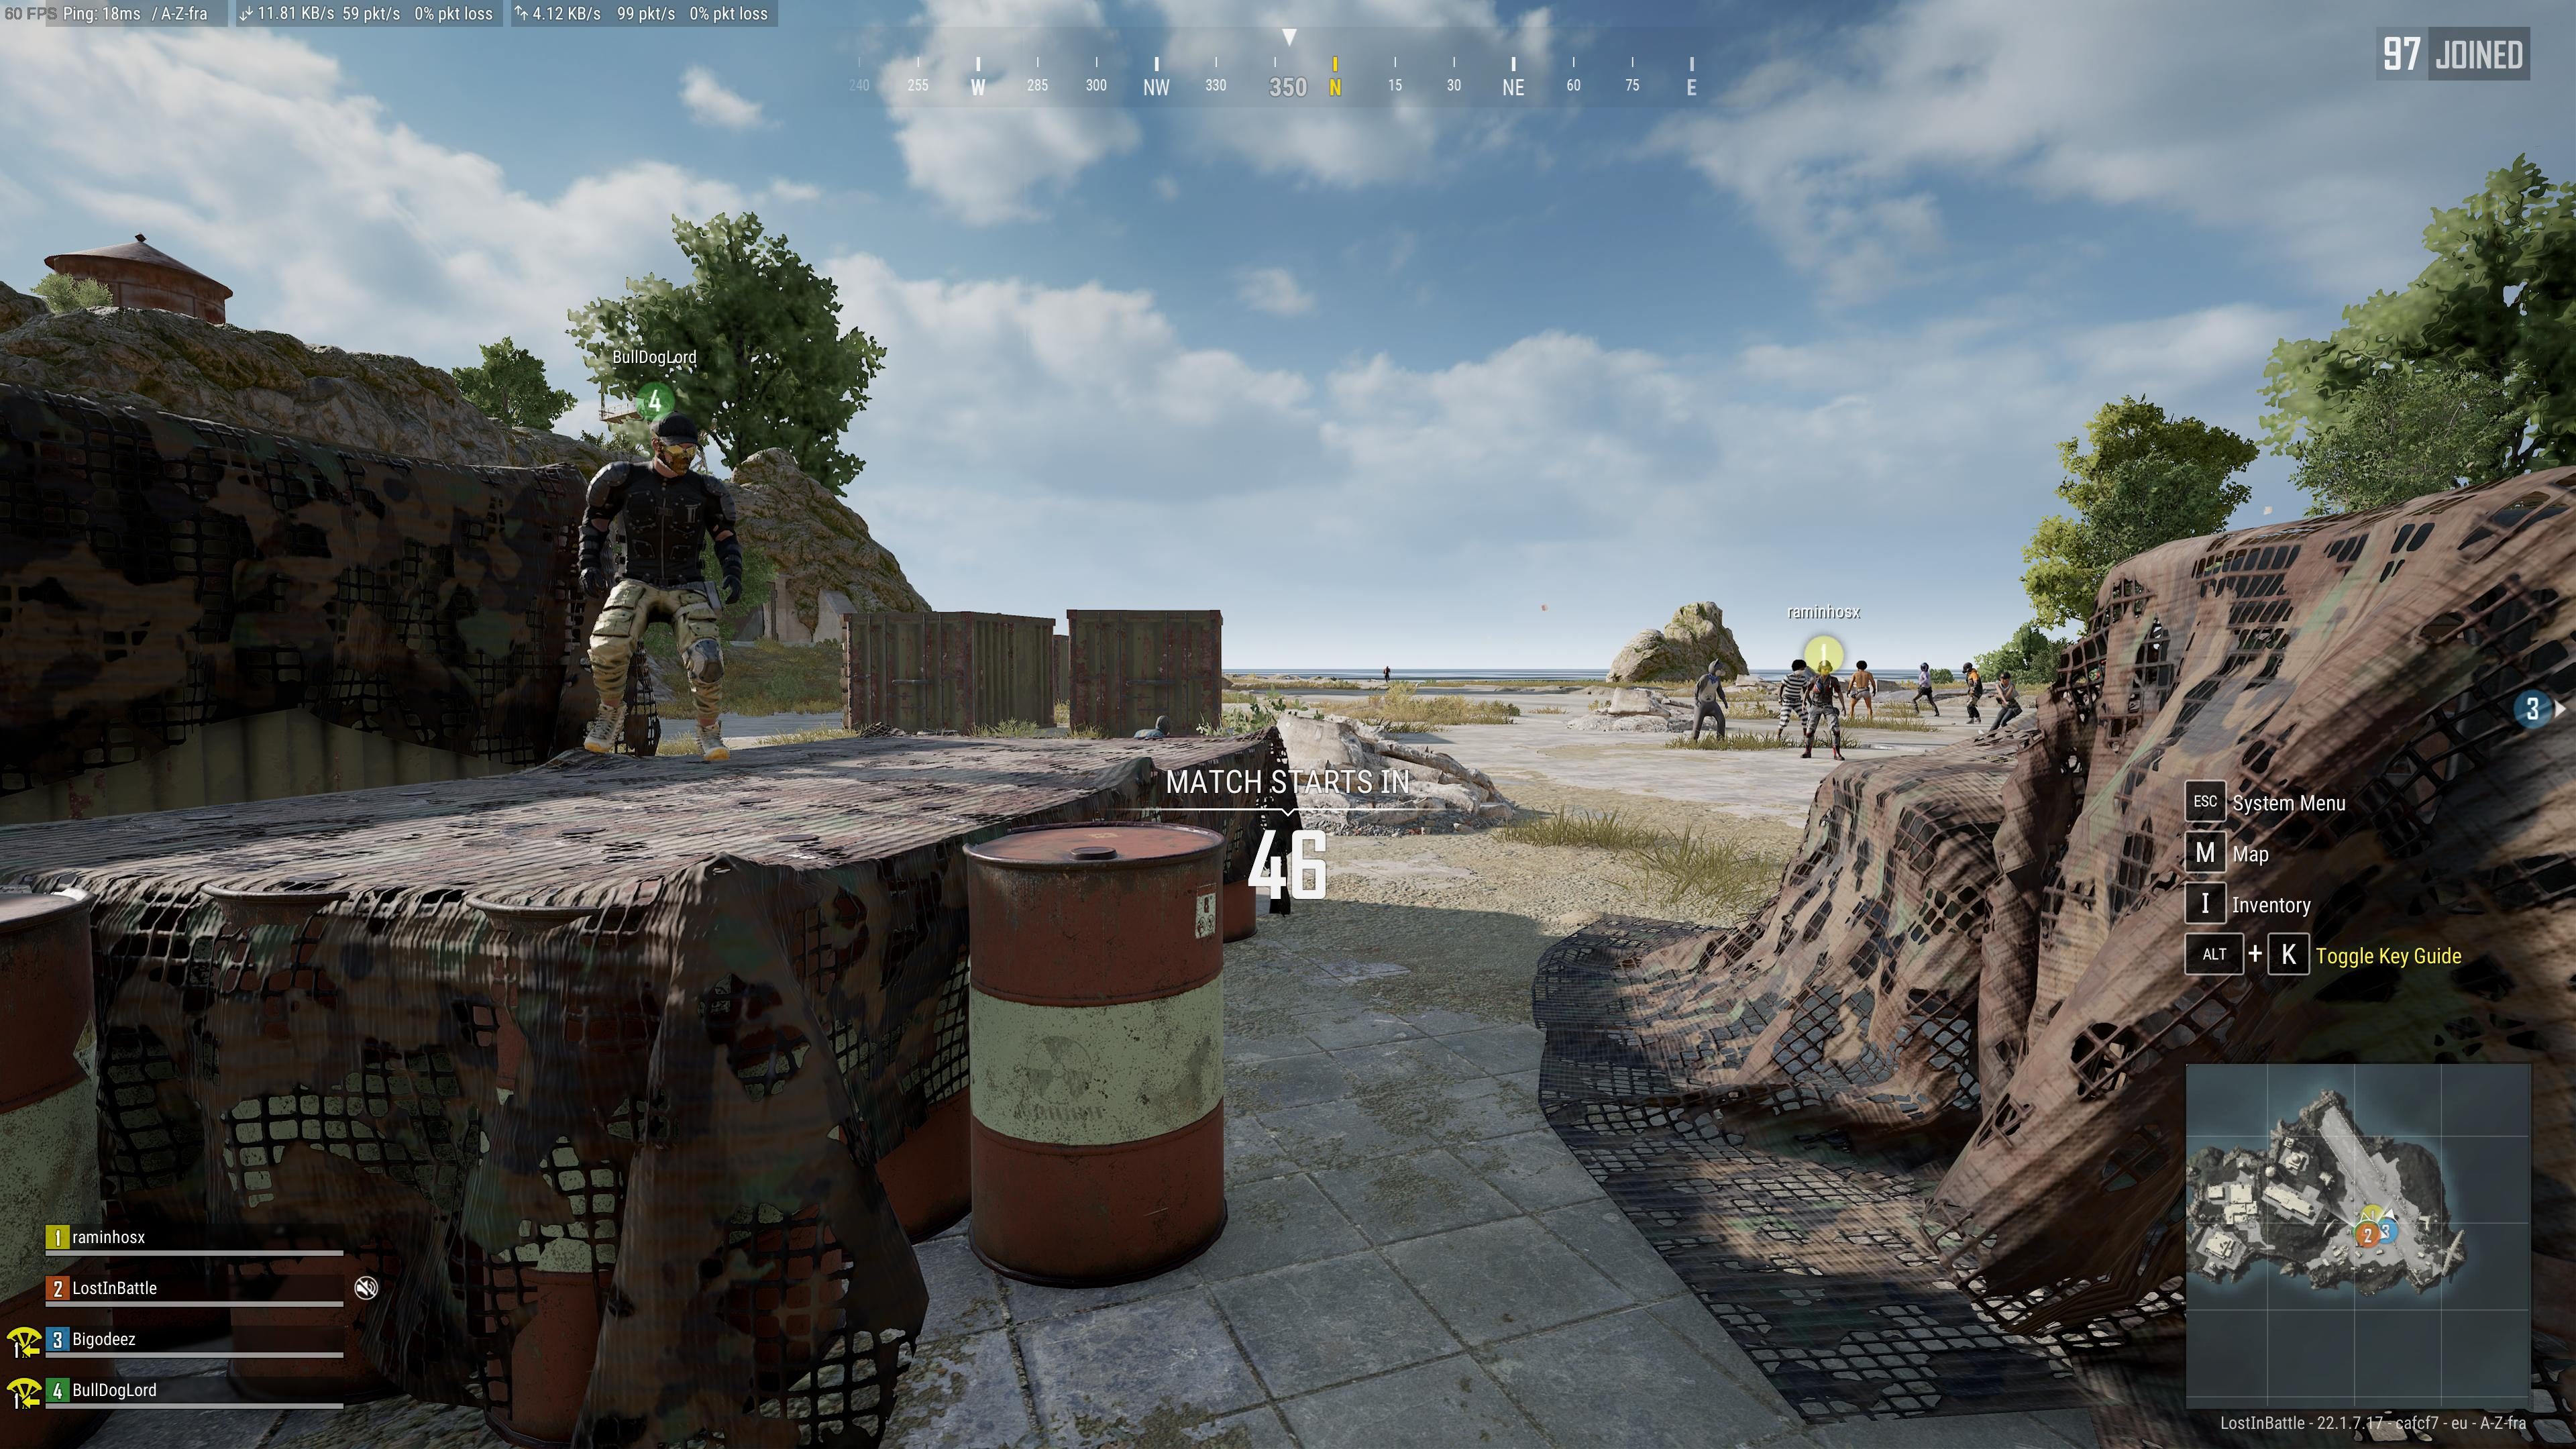enemy: (1691, 656, 1729, 741), (1845, 658, 1875, 722), (1989, 671, 2022, 722), (1960, 660, 1983, 725), (1913, 662, 1937, 717), (1382, 665, 1391, 681)
enemy_head: (1707, 656, 1725, 678), (1790, 658, 1805, 676), (1999, 671, 2010, 686), (1854, 660, 1867, 672), (1962, 660, 1973, 674), (1920, 662, 1928, 672)
friendly: (563, 400, 750, 763), (1792, 651, 1851, 763)
